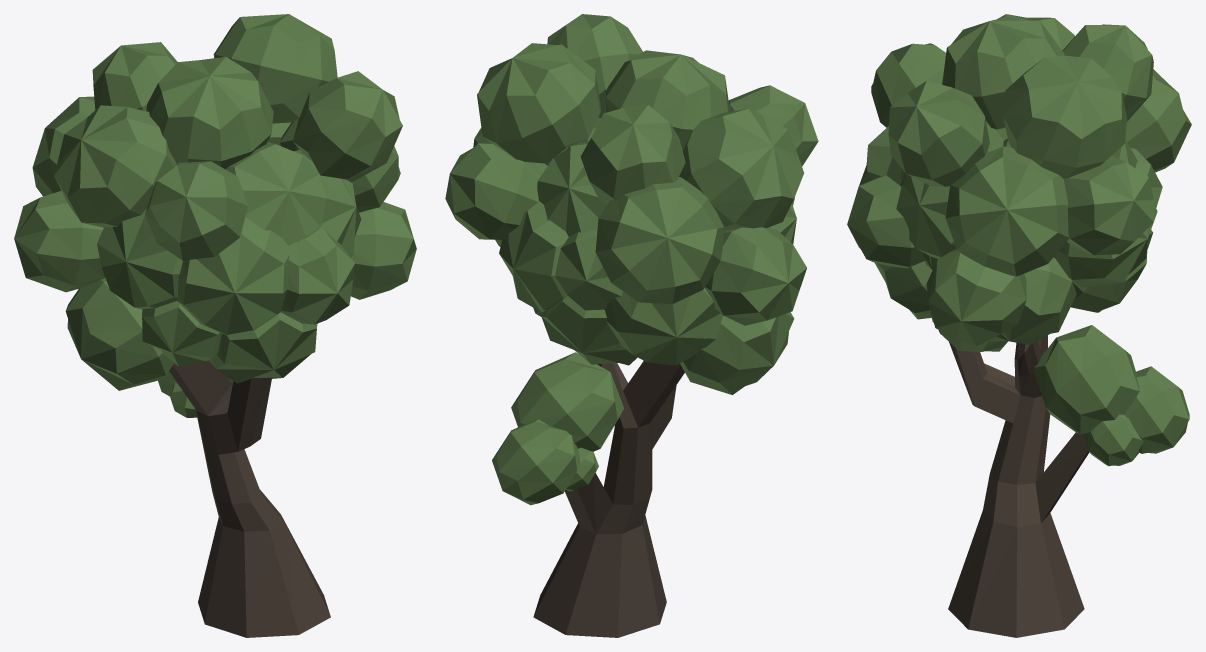
File: Tree0.fbx
The picture shows the model from 3 angles, left to right: view 1: azimuth 30°, elevation 25°; view 2: azimuth 150°, elevation 25°; view 3: azimuth 270°, elevation 25°; orthographic projection.
Visible parts, largest first — view 1: Tree0; view 2: Tree0; view 3: Tree0.
Boxes of the visible parts, x1,y1,x2,y2 form: Tree0: (14, 14, 416, 637); Tree0: (445, 14, 818, 637); Tree0: (847, 14, 1191, 637).
Bounding box in the file's own units: 5.63 × 8.9 × 4.94.
